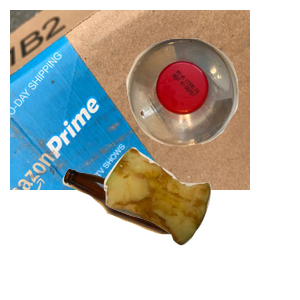cardboard: (10, 10, 250, 190)
glass: (60, 166, 241, 300)
plastic: (124, 36, 300, 175)
trash: (101, 145, 300, 300)
